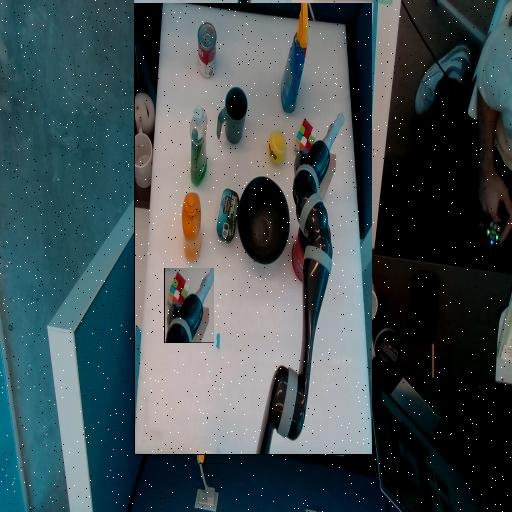bowl: (218, 194, 268, 279)
cleanser: (299, 303, 316, 319)
coffee_can: (176, 174, 214, 245)
jaco: (165, 268, 214, 342)
meat_can: (267, 229, 289, 251)
mug: (259, 313, 289, 369)
mustard_bottle: (305, 195, 324, 263)
rubik: (190, 295, 212, 338)
soup_can: (290, 397, 308, 415)
tennis_ball: (221, 294, 238, 324)
windex: (198, 345, 225, 463)
wooden_block: (170, 268, 195, 293)
workspace: (134, 3, 372, 454)
